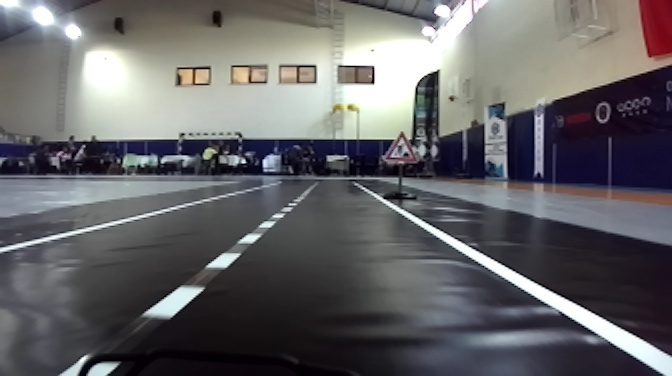yol_yapimi: (383, 125, 419, 162)
